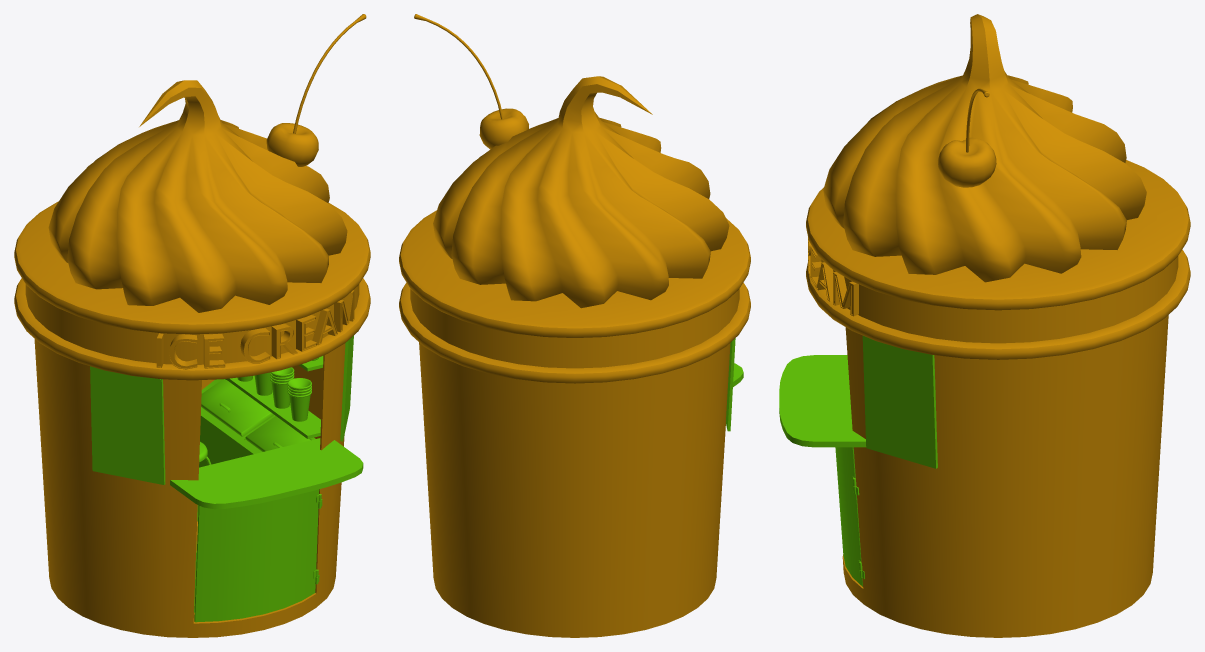
Rendered from shop_icecream_1.fbx.
The picture shows the model from 3 angles, left to right: view 1: azimuth 30°, elevation 25°; view 2: azimuth 150°, elevation 25°; view 3: azimuth 270°, elevation 25°; orthographic projection. The views are drawn at different scales.
Parts seen in each view (by area): view 1: shop_icecream_1; view 2: shop_icecream_1; view 3: shop_icecream_1.
Boxes of the visible parts, x1,y1,x2,y2 form: shop_icecream_1: (14,14,370,637); shop_icecream_1: (399,14,750,637); shop_icecream_1: (779,14,1190,637).
Bounding box in the file's own units: 249 × 389 × 255.
